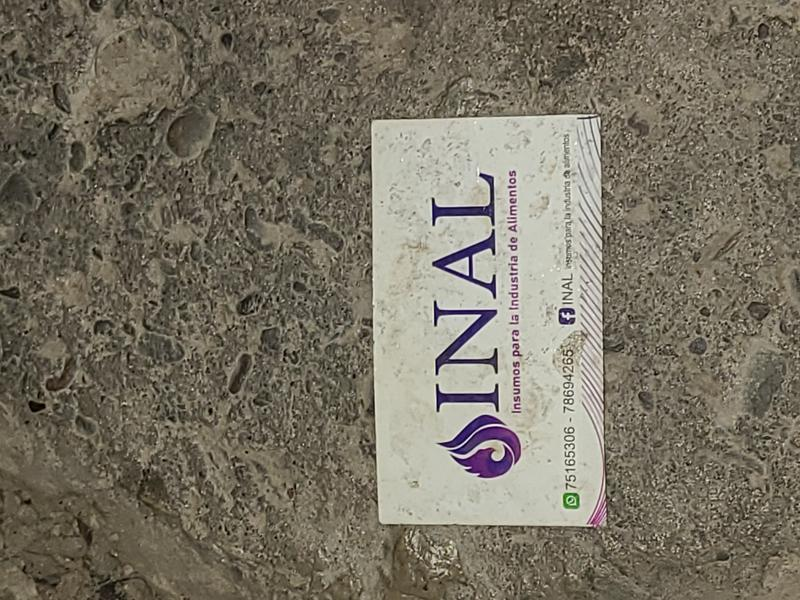papel: (371, 116, 608, 530)
